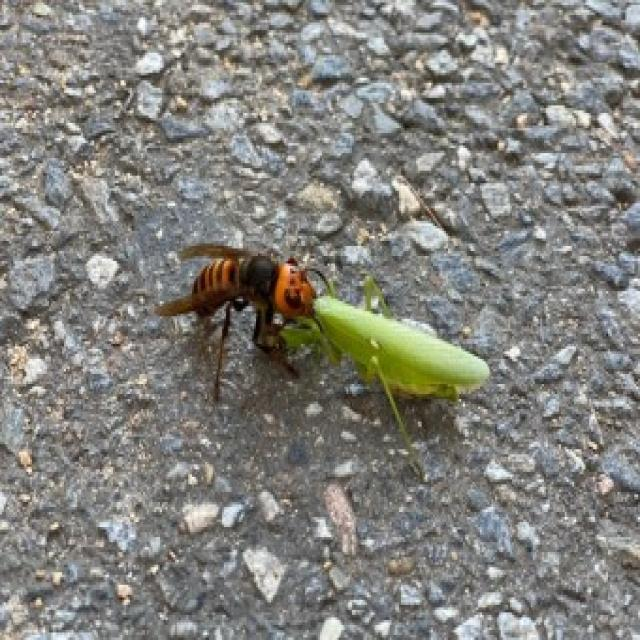Wasp: (152, 236, 326, 398)
